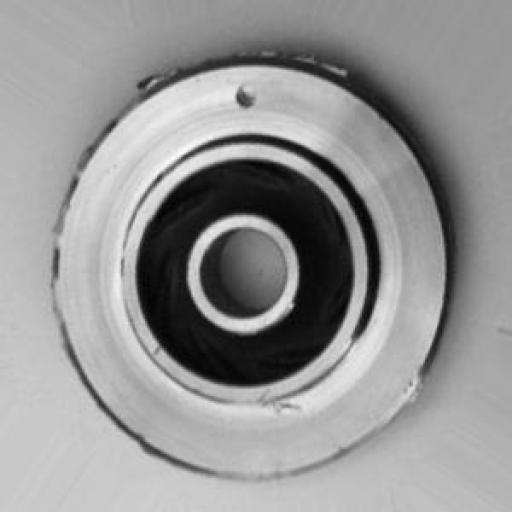defect: (30, 28, 462, 481), (204, 68, 292, 132)
